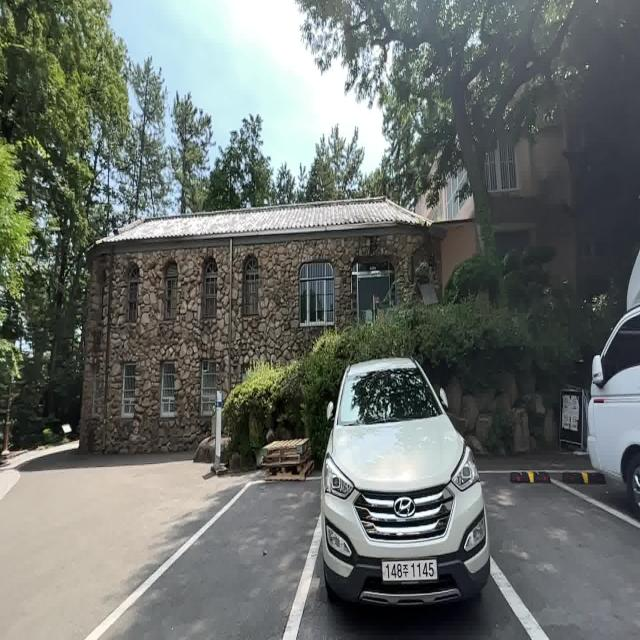building: (84, 162, 418, 326)
